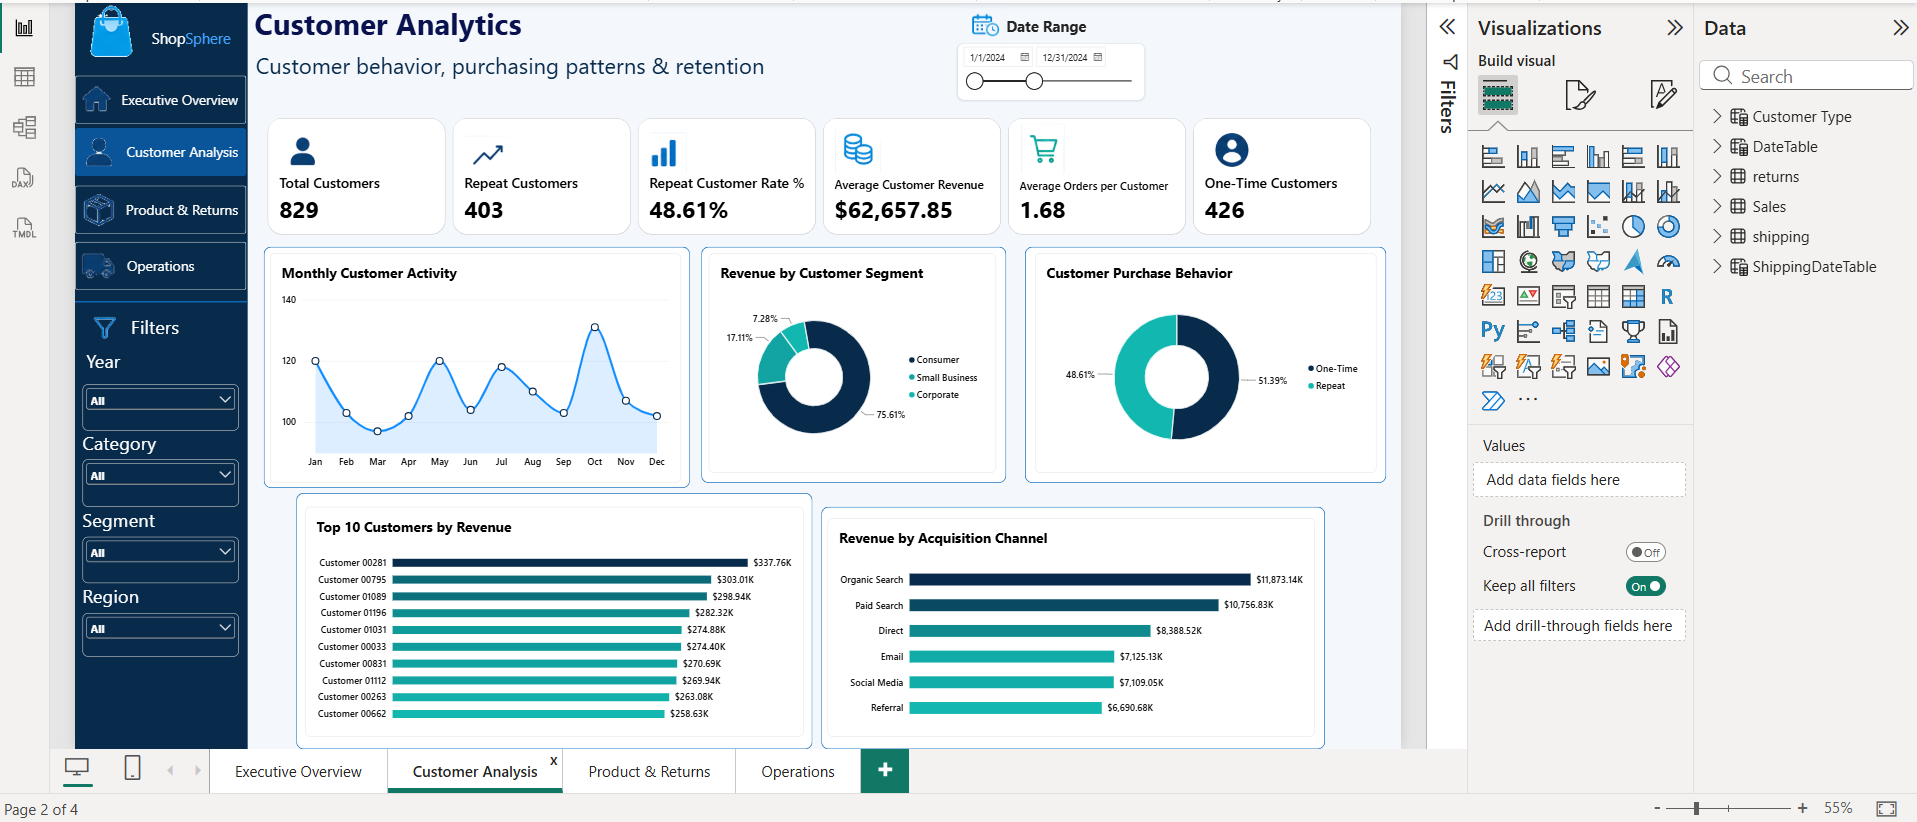

This screenshot's page, from the dashboard's own definition file:
{"tool":"powerbi","page":{"name":"Customer Analysis","canvas":[1920,1080],"ordinal":1},"visuals":[{"type":"cardVisual","fields":{"Data":["Sales.Total Customers","Sales.Repeat Customers","Sales.Repeat Customer Rate %","Sales.Average Customer Revenue","Sales.Average Orders per Customer","Sales.One-Time Customers"]},"box":[267.8,155.6,1623,190],"z":0},{"type":"shape","box":[0,0,250,1080],"z":1000},{"type":"textbox","box":[249.7,0,1634.1,153.8],"z":2000},{"type":"shape","box":[273.3,352.9,617.1,349.3],"z":3000},{"type":"shape","box":[906.6,352.9,441.6,342],"z":4000},{"type":"slicer","fields":{"Values":["DateTable.Year"]},"box":[10.9,551.9,226.2,67],"z":5000},{"type":"slicer","fields":{"Values":["Sales.category"]},"box":[10.9,660.5,226.2,68.8],"z":6000},{"type":"slicer","fields":{"Values":["Sales.segment"]},"box":[10.9,772.7,226.2,67],"z":7000},{"type":"slicer","fields":{"Values":["Sales.region"]},"box":[10.9,883.1,226.2,63.3],"z":8000},{"type":"shape","box":[1375.3,352.9,523,342],"z":9000},{"type":"shape","box":[320.3,709.4,747.4,371],"z":10000},{"type":"shape","box":[1080.4,729.3,729.3,351.1],"z":11000},{"type":"shape","box":[0,419.5,249.7,25.3],"z":12000},{"type":"image","box":[10.9,445.2,65.1,50.7],"z":13000},{"type":"textbox","box":[10.9,450.6,188.2,48.9],"z":14000},{"type":"textbox","box":[16.3,499.5,85.1,45.2],"z":15000},{"type":"textbox","box":[10.9,618.9,132.1,43.4],"z":16000},{"type":"textbox","box":[10.9,729.3,114,43.4],"z":17000},{"type":"textbox","box":[10.9,839.7,114,43.4],"z":18000},{"type":"image","box":[1279.4,0,68.8,57.9],"z":19000},{"type":"image","box":[0,0,106.8,89],"z":20000},{"type":"textbox","box":[99.5,0,137.5,88.7],"z":21000},{"type":"slicer","fields":{"Values":["DateTable.Date"]},"box":[1277.6,57.9,271.4,83.2],"z":22000},{"type":"textbox","box":[1348.2,0,200.9,57.9],"z":23000},{"type":"lineChart","title":"Monthly Customer Activity","fields":{"Category":["DateTable.Month"],"Y":["Sales.Total Customers"]},"box":[282.3,361.9,595.4,333],"z":24000},{"type":"donutChart","title":"Revenue by Customer Segment","fields":{"Category":["Sales.segment"],"Y":["Sales.Total Revenue"]},"box":[917.5,361.9,416.2,318.5],"z":25000},{"type":"donutChart","title":"Customer Purchase Behavior","fields":{"Y":["Sales.Customer Count by Type"],"Category":["Customer Type.Customer Type"]},"box":[1389.8,361.9,494,318.5],"z":26000},{"type":"clusteredBarChart","title":"Top 10 Customers by Revenue","fields":{"Category":["Sales.customer_name"],"Y":["Sales.Total Revenue"]},"box":[333,729.3,722.1,333],"z":27000},{"type":"clusteredBarChart","title":"Revenue by Acquisition Channel","fields":{"Category":["Sales.acquisition_channel"],"Y":["Sales.Total Revenue"]},"box":[1089.4,745.6,705.8,316.7],"z":28000},{"type":"pageNavigator","box":[0,105,248,70],"z":29000},{"type":"pageNavigator","box":[0,181,248,70],"z":30000},{"type":"pageNavigator","box":[0,264.2,248,70],"z":31000},{"type":"pageNavigator","box":[0,345.6,248,70],"z":32000},{"type":"image","box":[0,105,59.7,70.6],"z":33000},{"type":"image","box":[0,181,68.8,70.6],"z":34000},{"type":"image","box":[0,264.2,68.8,70.6],"z":35000},{"type":"image","box":[0,345.6,59.7,70.6],"z":36000}]}

Visuals, with their boxes on the page's 1920x1080 design canvas (x1, y1, x2, y2). These are canvas units, not pixel positions in the 1917x822 screenshot, which may show the page scaled, cropped or inside an application window:
cardVisual - Sales.Total Customers x Sales.Repeat Customers: 268/156/1891/346
shape: 0/0/250/1080
textbox: 250/0/1884/154
shape: 273/353/890/702
shape: 907/353/1348/695
slicer - DateTable.Year: 11/552/237/619
slicer - Sales.category: 11/660/237/729
slicer - Sales.segment: 11/773/237/840
slicer - Sales.region: 11/883/237/946
shape: 1375/353/1898/695
shape: 320/709/1068/1080
shape: 1080/729/1810/1080
shape: 0/420/250/445
image: 11/445/76/496
textbox: 11/451/199/500
textbox: 16/500/101/545
textbox: 11/619/143/662
textbox: 11/729/125/773
textbox: 11/840/125/883
image: 1279/0/1348/58
image: 0/0/107/89
textbox: 100/0/237/89
slicer - DateTable.Date: 1278/58/1549/141
textbox: 1348/0/1549/58
"Monthly Customer Activity" lineChart: 282/362/878/695
"Revenue by Customer Segment" donutChart: 918/362/1334/680
"Customer Purchase Behavior" donutChart: 1390/362/1884/680
"Top 10 Customers by Revenue" clusteredBarChart: 333/729/1055/1062
"Revenue by Acquisition Channel" clusteredBarChart: 1089/746/1795/1062
pageNavigator: 0/105/248/175
pageNavigator: 0/181/248/251
pageNavigator: 0/264/248/334
pageNavigator: 0/346/248/416
image: 0/105/60/176
image: 0/181/69/252
image: 0/264/69/335
image: 0/346/60/416
